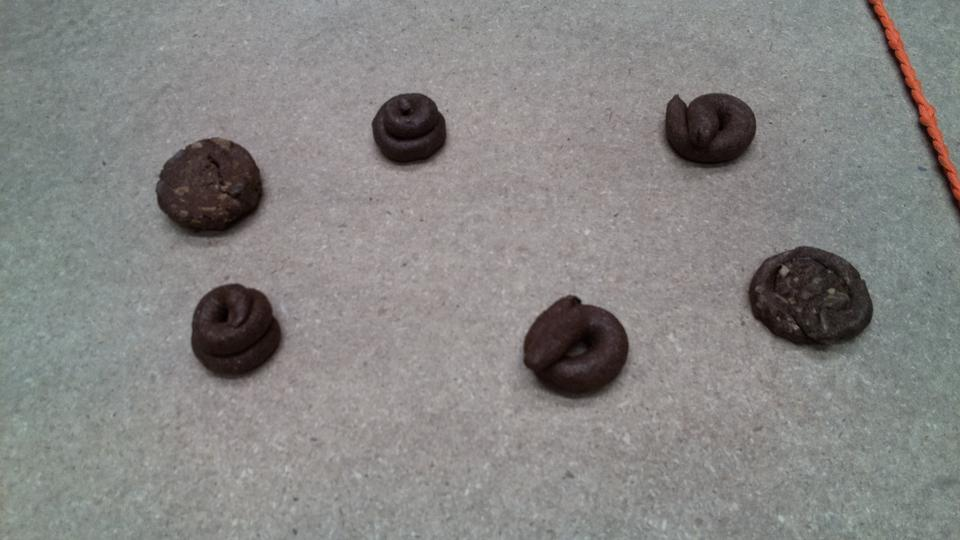poop: (746, 242, 878, 352), (518, 291, 635, 401), (152, 134, 267, 237), (187, 279, 287, 380), (661, 87, 762, 169), (369, 88, 450, 169)
rope: (871, 1, 959, 197)
